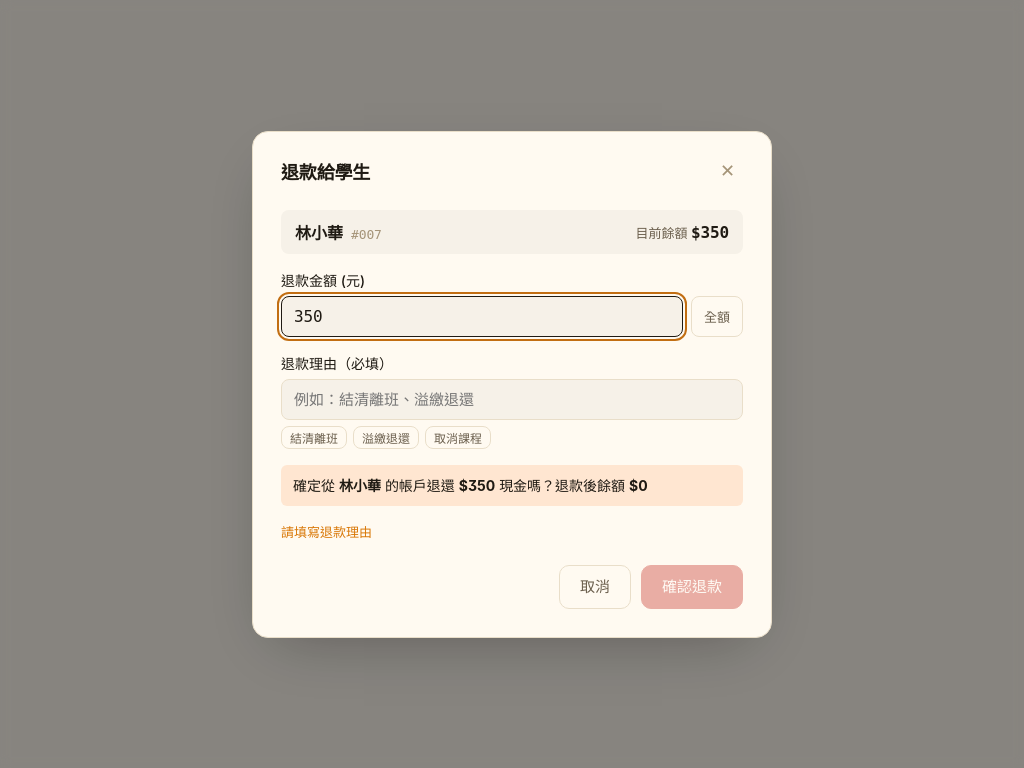
RefundDialog › displays confirmation prompt with correct refund amount and remaining balance
The image size is (1024, 768).
Replace the text in the field named "退款金額" with "150" at (482, 316), box [281, 296, 683, 336]
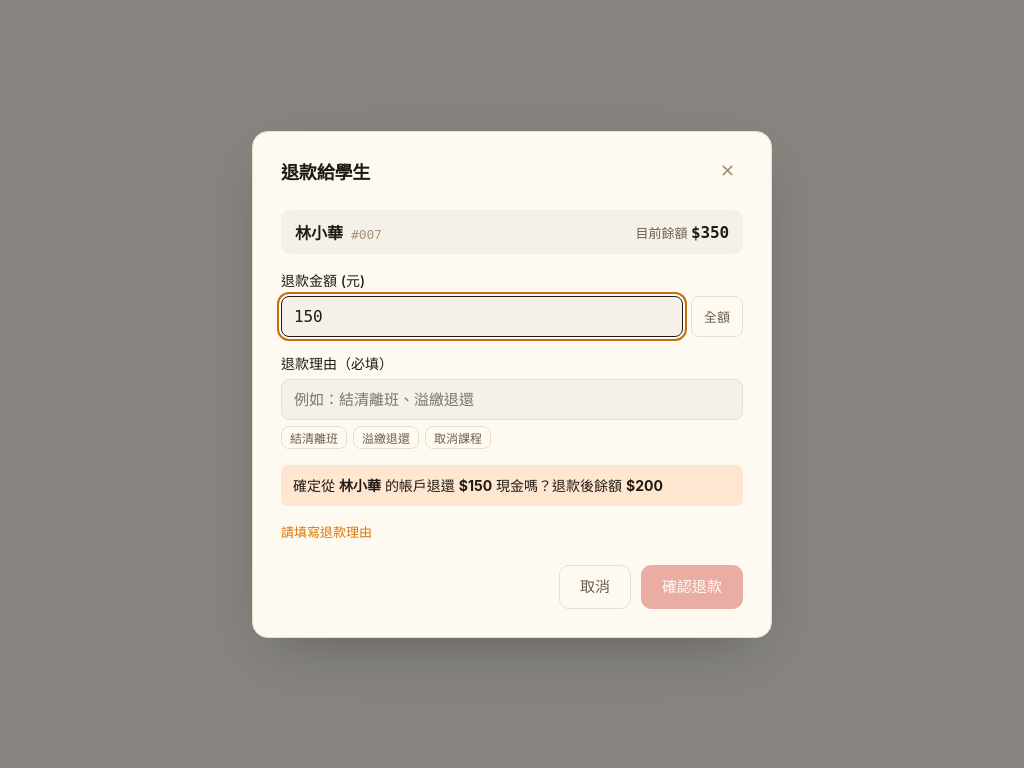
Expected: the text "確定從 林小華 的帳戶退還 $150 現金嗎？退款後餘額 $200" is shown, [281, 464, 743, 506]
Now the text "$150" is shown, box [459, 476, 492, 494]
Now the text "$200" is shown, box [626, 476, 663, 494]
